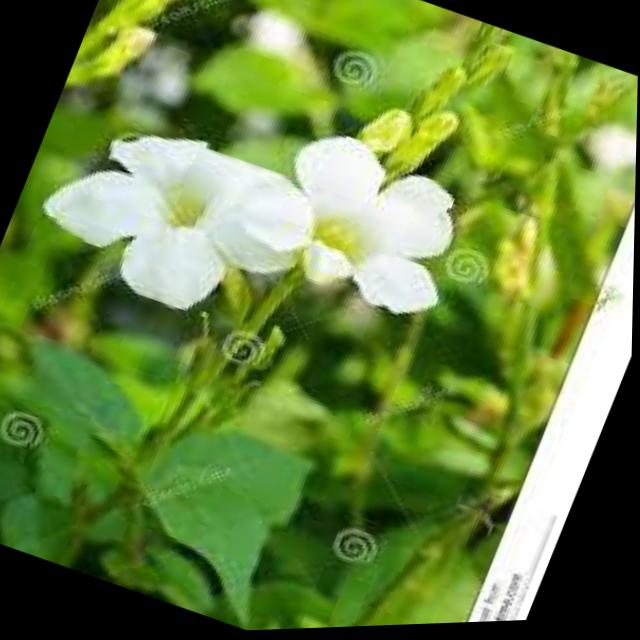Flower: (33, 99, 324, 359), (245, 108, 498, 353)
